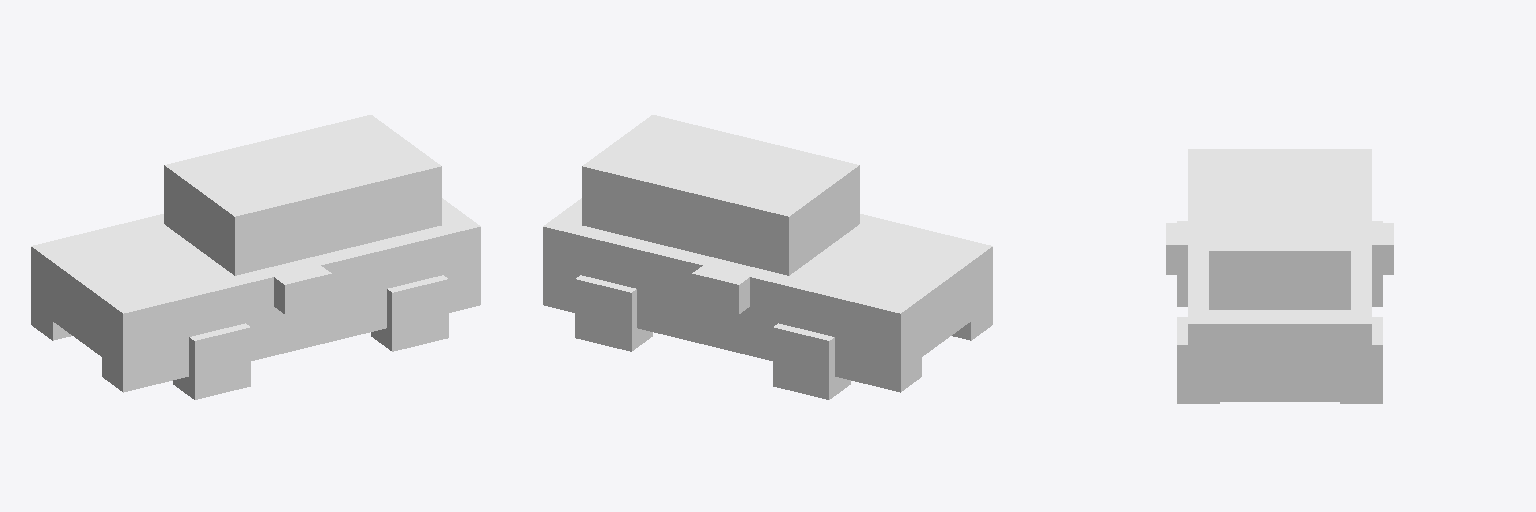
Rendered from car_green.obj.
3 views of the same model, side by side, from view 1: azimuth 30°, elevation 25°; view 2: azimuth 150°, elevation 25°; view 3: azimuth 270°, elevation 25° (orthographic).
Parts seen in each view (by area): view 1: object 1; view 2: object 1; view 3: object 1.
Boxes of the visible parts, x1,y1,x2,y2 form: object 1: [31, 115, 480, 399]; object 1: [543, 115, 992, 399]; object 1: [1166, 149, 1393, 403].
Bounding box in the file's own units: 3.8 × 1.6 × 2.1.